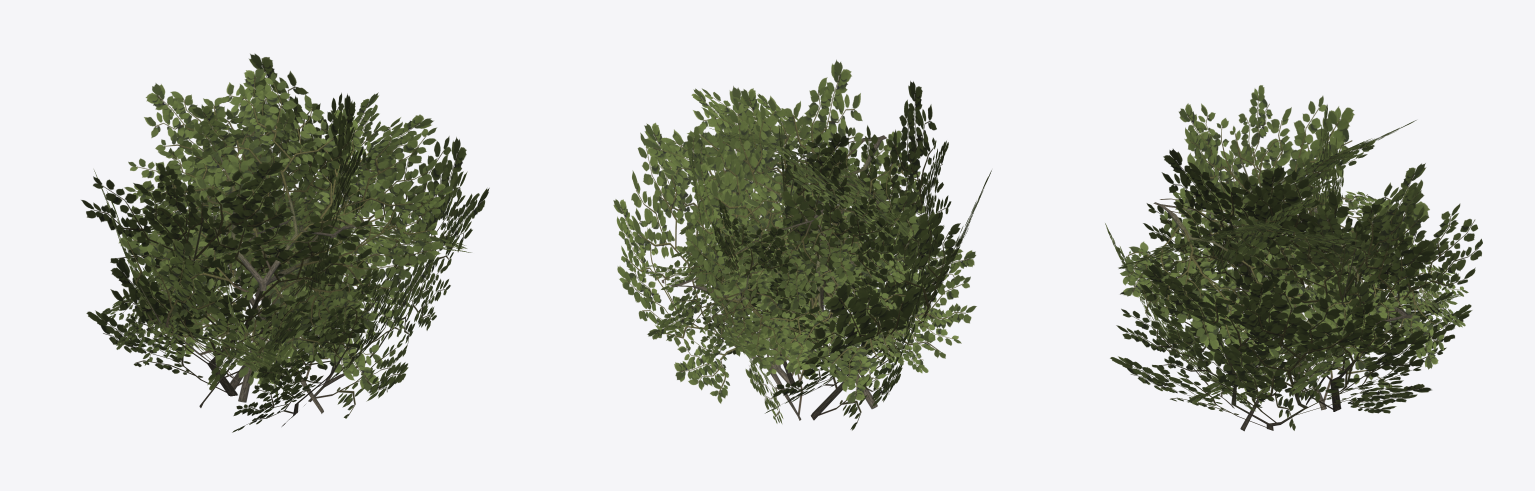
Rendered from Bush.gltf.
The picture shows the model from 3 angles, left to right: view 1: azimuth 30°, elevation 25°; view 2: azimuth 150°, elevation 25°; view 3: azimuth 270°, elevation 25°; orthographic projection. The views are drawn at different scales.
Parts seen in each view (by area): view 1: Bush-01_13; view 2: Bush-01_13; view 3: Bush-01_13.
Part boxes in pixels (<box>): Bush-01_13: <box>81,53,489,432</box>; Bush-01_13: <box>613,59,991,430</box>; Bush-01_13: <box>1105,85,1482,431</box>.
Bounding box in the file's own units: 37.57 × 26.67 × 36.09.
5 materials, 5 textured.
